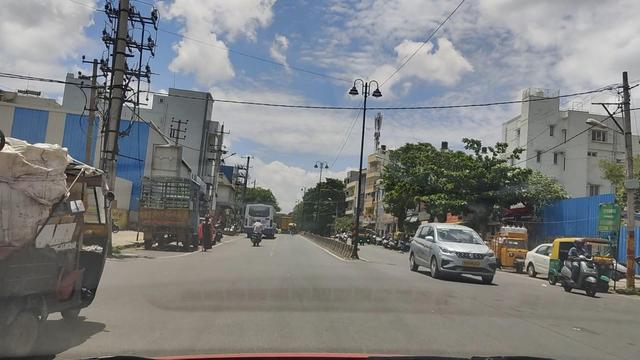LMV: (2, 131, 122, 358)
